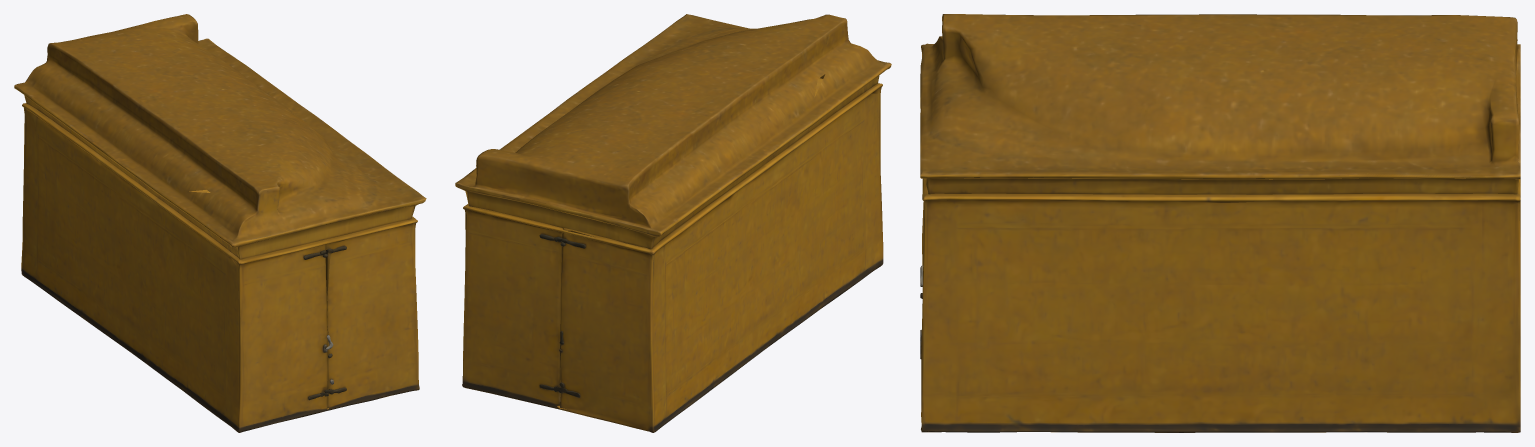
Rendered from burial-shrine-239-ai.glb.
3 views of the same model, side by side, from view 1: azimuth 30°, elevation 25°; view 2: azimuth 150°, elevation 25°; view 3: azimuth 270°, elevation 25° (orthographic). The views are drawn at different scales.
Parts seen in each view (by area): view 1: geometry_0; view 2: geometry_0; view 3: geometry_0.
Boxes of the visible parts, left/top/right/bottom form: geometry_0: left=14, top=14, right=426, bottom=432; geometry_0: left=455, top=14, right=891, bottom=432; geometry_0: left=920, top=14, right=1520, bottom=432.
Bounding box in the file's own units: 0.5183 × 0.5853 × 1.
1 material, 1 textured.
